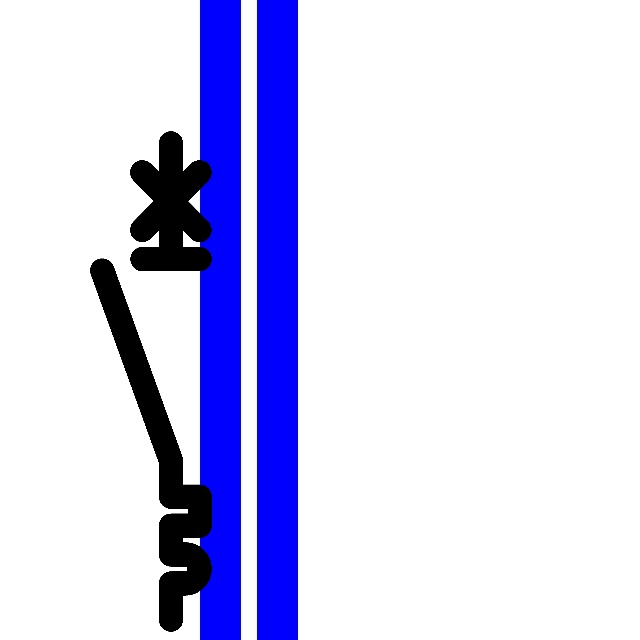interruptor_termomagnetico: (90, 131, 212, 632)
